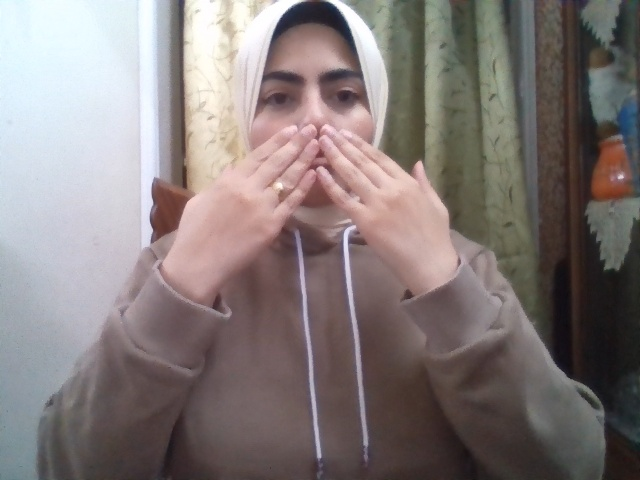thanks: (166, 124, 452, 272)
